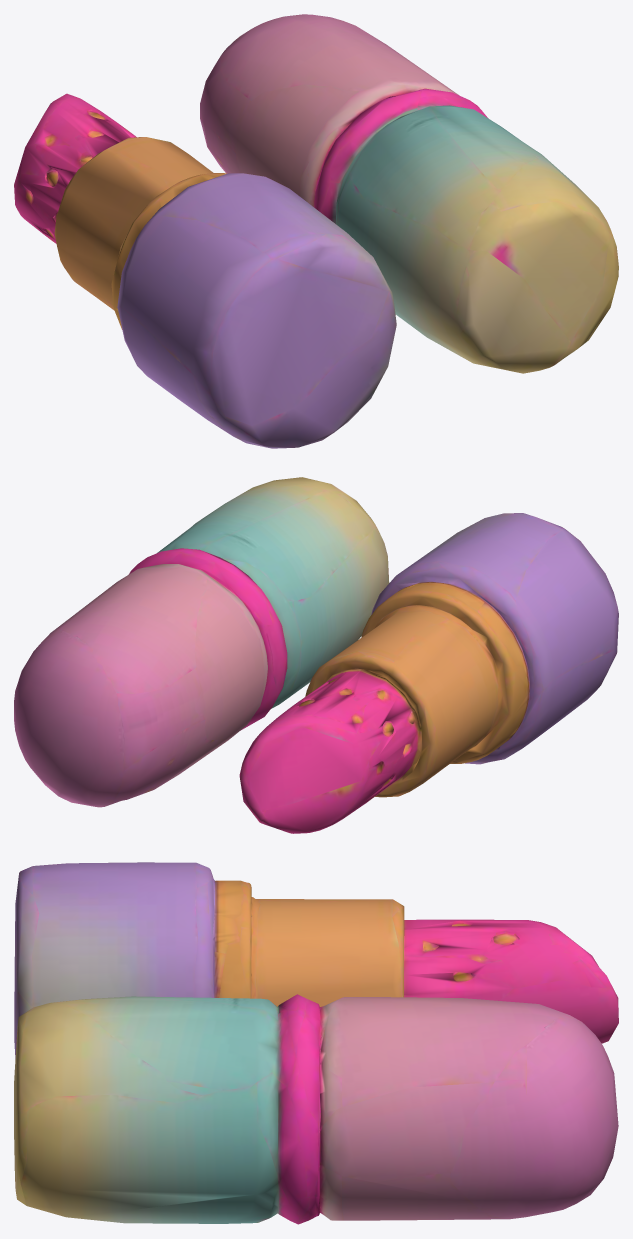
3 views of the same model, one above another, from view 1: azimuth 30°, elevation 25°; view 2: azimuth 150°, elevation 25°; view 3: azimuth 270°, elevation 25° (orthographic). The views are drawn at different scales.
Parts seen in each view (by area): view 1: material; view 2: material; view 3: material.
Boxes of the visible parts, x1,y1,x2,y2 form: material: [14, 14, 618, 448]; material: [14, 477, 618, 833]; material: [14, 862, 618, 1224].
Bounding box in the file's own units: 0.8717 × 0.4157 × 1.
1 material, 1 textured.
